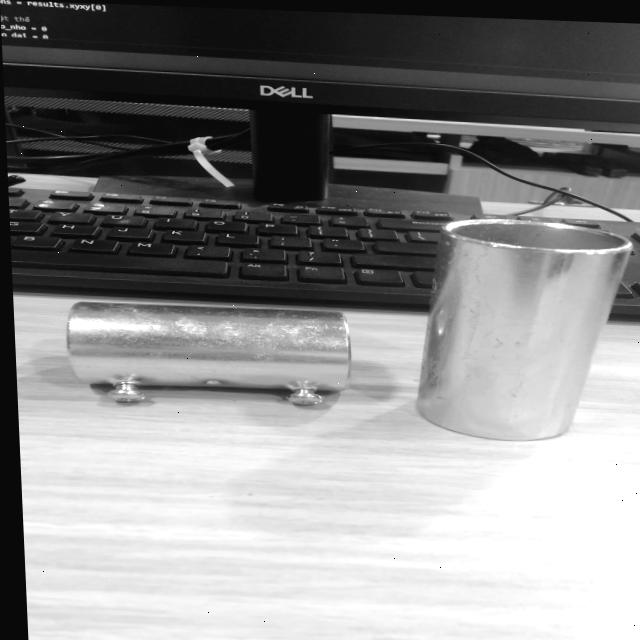Co_Lon: (411, 206, 634, 456)
Co_Nho: (65, 301, 353, 407)
